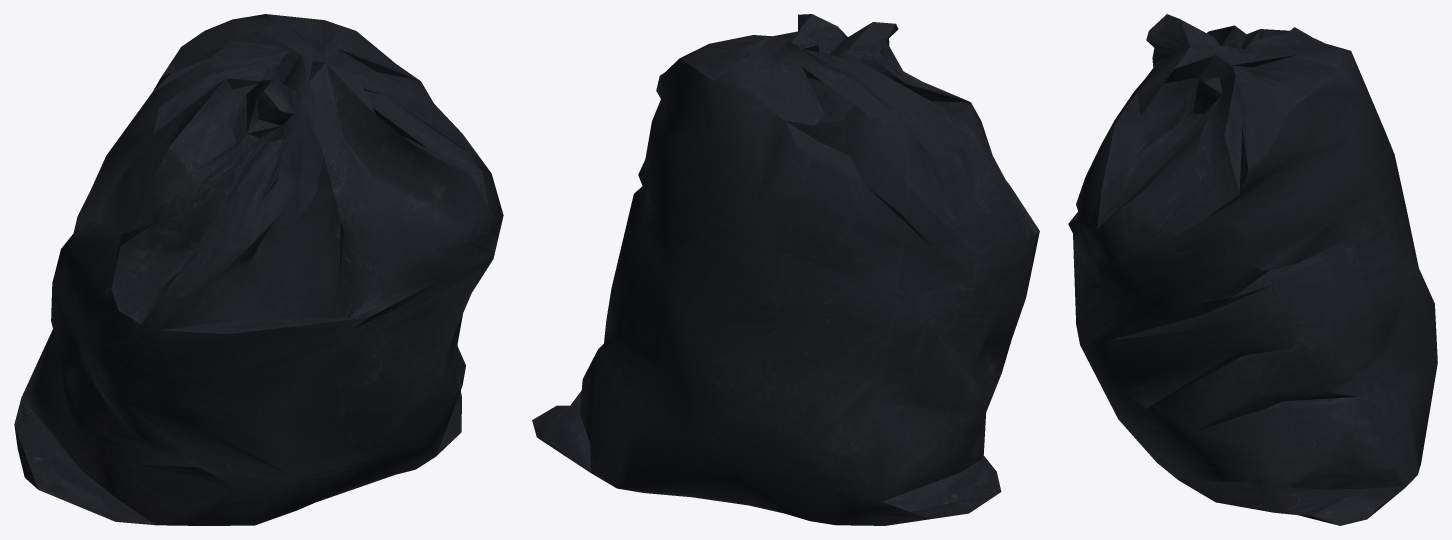
The model's file is SM_SuLiaoDai.glb.
3 views of the same model, side by side, from view 1: azimuth 30°, elevation 25°; view 2: azimuth 150°, elevation 25°; view 3: azimuth 270°, elevation 25° (orthographic). The views are drawn at different scales.
Parts seen in each view (by area): view 1: SM_SuLiaoDai; view 2: SM_SuLiaoDai; view 3: SM_SuLiaoDai.
Part boxes in pixels (x1,y1,x2,y2): SM_SuLiaoDai: [14, 14, 503, 525]; SM_SuLiaoDai: [532, 14, 1039, 525]; SM_SuLiaoDai: [1068, 14, 1437, 525].
Bounding box in the file's own units: 0.6545 × 0.5861 × 0.4989.
Materials: 1 (1 with a texture image).
